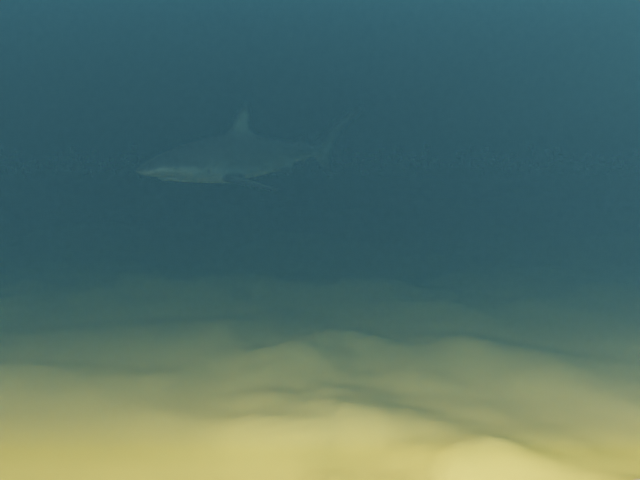Carribean Shark.001: (135, 105, 361, 190)
